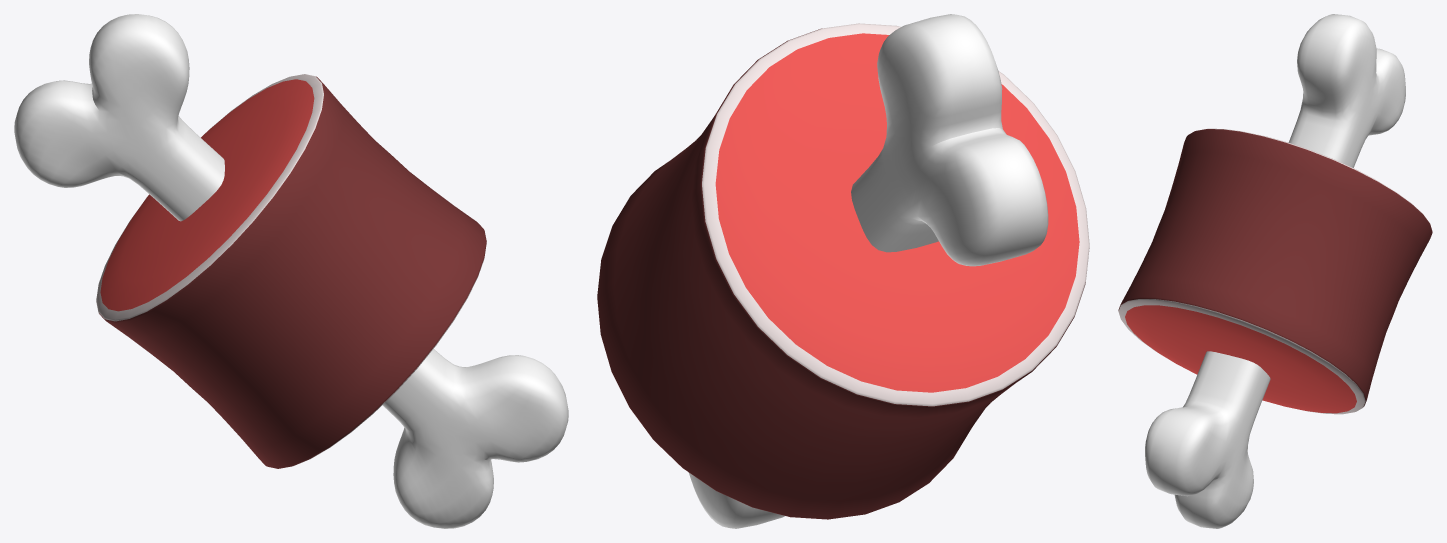
File: meat_on_bone.gltf
3 views of the same model, side by side, from view 1: azimuth 30°, elevation 25°; view 2: azimuth 150°, elevation 25°; view 3: azimuth 270°, elevation 25° (orthographic). The views are drawn at different scales.
Visible parts, largest first — view 1: Circle.2205, Skull and Crossbones.001; view 2: Circle.2205, Skull and Crossbones.001; view 3: Circle.2205, Skull and Crossbones.001.
Boxes of the visible parts, left/top/right/bottom form: Circle.2205: left=96, top=74, right=486, bottom=468; Skull and Crossbones.001: left=14, top=14, right=568, bottom=528; Circle.2205: left=597, top=23, right=1089, bottom=519; Skull and Crossbones.001: left=688, top=14, right=1048, bottom=528; Circle.2205: left=1118, top=128, right=1432, bottom=414; Skull and Crossbones.001: left=1145, top=14, right=1405, bottom=528.
Bounding box in the file's own units: 2.11 × 2.36 × 1.63.
1 material, 1 textured.
